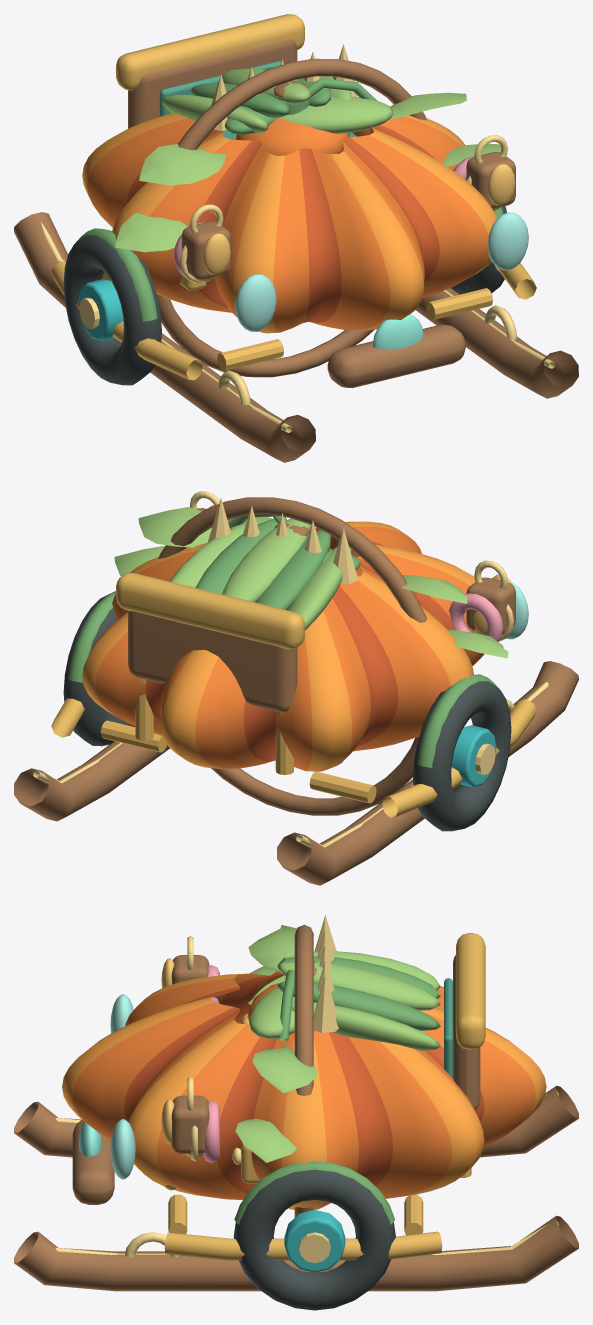
The model's file is pumpkin-cart.glb.
3 views of the same model, one above another, from view 1: azimuth 30°, elevation 25°; view 2: azimuth 150°, elevation 25°; view 3: azimuth 270°, elevation 25° (orthographic).
Visible parts, largest first — view 1: CartPumpkinHull, CartHarnessBand, CartRunner, CartWheel, CartRunner.001, CartTravelerBackRail, CartNose, CartBackrest, CartTopLeaf, CartSideLeaf.001, CartPumpkinShoulder, CartTravelerLeaf (+22 smaller); view 2: CartPumpkinHull, CartHarnessBand, CartBackrest, CartRunner, CartWheel, CartTravelerBackRail, CartRunner.001, CartLeafCrown.002, CartWheel.001, CartLeafCrown.001, CartSideBumper, CartLeafCrown (+20 smaller); view 3: CartPumpkinHull, CartRunner.001, CartWheel.001, CartRunner, CartSideBumper.001, CartTravelerBackRail, CartHarnessBand, CartLeafCrown.002, CartLeafCrown.004, CartNose, CartWheelHub.001, CartLeafCrown.003 (+22 smaller).
Part boxes in pixels (x1=…): CartPumpkinHull: x1=82, y1=113, x2=497, y2=333; CartHarnessBand: x1=157, y1=58, x2=426, y2=377; CartRunner: x1=14, y1=212, x2=315, y2=462; CartWheel: x1=63, y1=235, x2=161, y2=385; CartRunner.001: x1=415, y1=288, x2=578, y2=398; CartTravelerBackRail: x1=116, y1=14, x2=304, y2=90; CartNose: x1=327, y1=324, x2=465, y2=387; CartBackrest: x1=128, y1=39, x2=297, y2=128; CartTopLeaf: x1=278, y1=96, x2=393, y2=133; CartSideLeaf.001: x1=139, y1=144, x2=226, y2=185; CartPumpkinShoulder: x1=235, y1=117, x2=349, y2=155; CartTravelerLeaf: x1=115, y1=213, x2=187, y2=252; CartPumpkinHull: x1=82, y1=521, x2=484, y2=771; CartHarnessBand: x1=158, y1=497, x2=426, y2=815; CartBackrest: x1=128, y1=610, x2=297, y2=712; CartRunner: x1=277, y1=661, x2=578, y2=885; CartWheel: x1=413, y1=681, x2=511, y2=831; CartTravelerBackRail: x1=116, y1=572, x2=304, y2=649; CartRunner.001: x1=14, y1=726, x2=169, y2=821; CartLeafCrown.002: x1=222, y1=518, x2=310, y2=602; CartWheel.001: x1=63, y1=593, x2=134, y2=746; CartLeafCrown.001: x1=255, y1=530, x2=330, y2=610; CartSideBumper: x1=382, y1=699, x2=536, y2=817; CartLeafCrown: x1=288, y1=546, x2=351, y2=630; CartPumpkinHull: x1=62, y1=971, x2=546, y2=1209; CartRunner.001: x1=14, y1=1215, x2=578, y2=1291; CartWheel.001: x1=233, y1=1169, x2=395, y2=1310; CartRunner: x1=14, y1=1085, x2=578, y2=1157; CartSideBumper.001: x1=164, y1=1231, x2=442, y2=1260; CartTravelerBackRail: x1=456, y1=933, x2=485, y2=1049; CartHarnessBand: x1=294, y1=924, x2=313, y2=1217; CartLeafCrown.002: x1=277, y1=961, x2=440, y2=1010; CartLeafCrown.004: x1=291, y1=1001, x2=440, y2=1050; CartNose: x1=72, y1=1120, x2=114, y2=1204; CartWheelHub.001: x1=284, y1=1209, x2=345, y2=1272; CartLeafCrown.003: x1=277, y1=981, x2=440, y2=1030.
Size of the model in its own units: 2.23 by 1.65 by 2.68.
